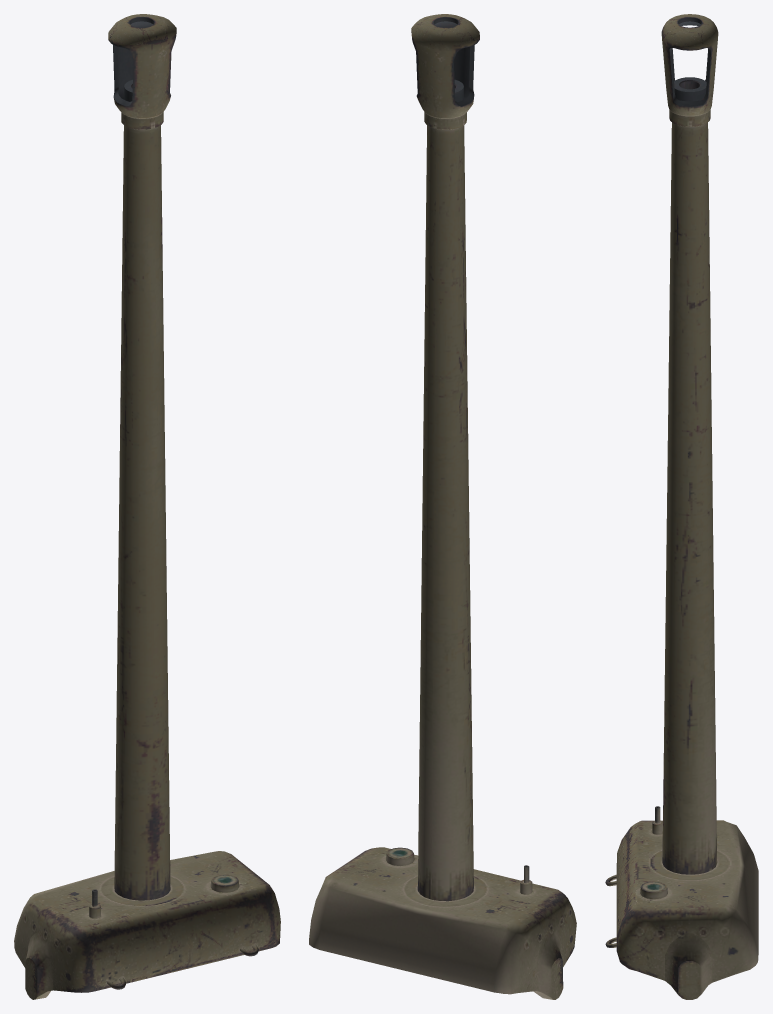
Rendered from Gun_03.glb.
The picture shows the model from 3 angles, left to right: view 1: azimuth 30°, elevation 25°; view 2: azimuth 150°, elevation 25°; view 3: azimuth 270°, elevation 25°; orthographic projection. The views are drawn at different scales.
Parts seen in each view (by area): view 1: set_0_group_0; view 2: set_0_group_0; view 3: set_0_group_0.
Part boxes in pixels (left/top/right/bottom): set_0_group_0: left=14, top=14, right=280, bottom=999; set_0_group_0: left=309, top=14, right=576, bottom=999; set_0_group_0: left=605, top=14, right=758, bottom=999.
Size of the model in its own units: 1.54 by 6.05 by 0.9106.
Materials: 1 (1 with a texture image).
